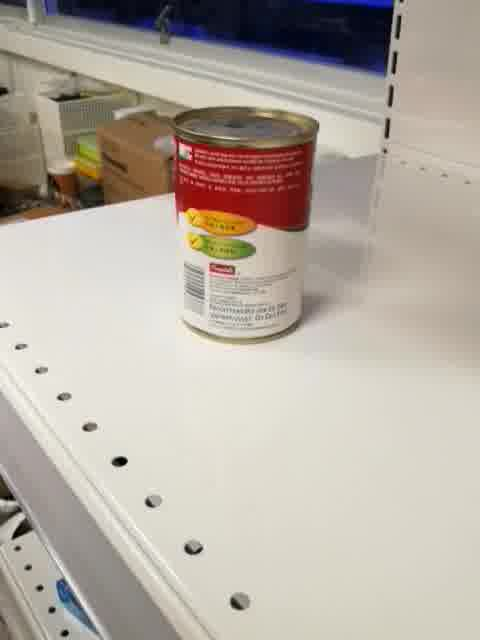tomatosoup: (172, 103, 321, 347)
